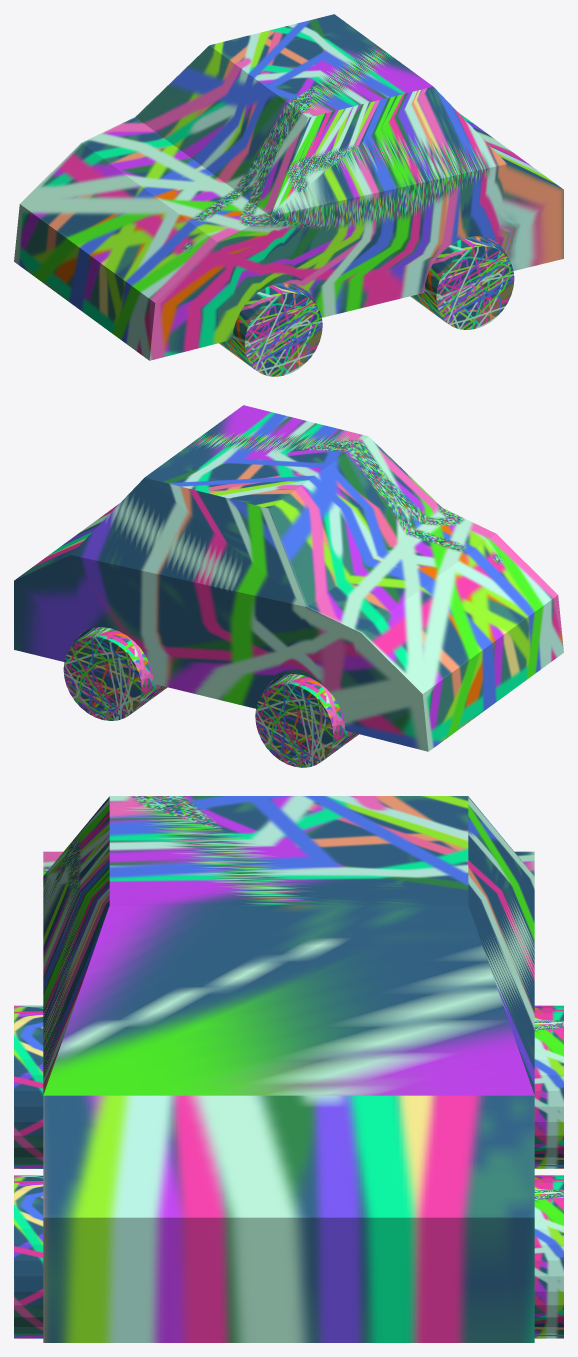
The model's file is car.gltf.
3 renders of one model, top to bottom at view 1: azimuth 30°, elevation 25°; view 2: azimuth 150°, elevation 25°; view 3: azimuth 270°, elevation 25°, orthographic. The views are drawn at different scales.
Parts seen in each view (by area): view 1: Cube; view 2: Cube; view 3: Cube.
Part boxes in pixels (x1,y1,x2,y2): Cube: [14, 14, 563, 376]; Cube: [14, 405, 563, 767]; Cube: [14, 796, 563, 1342].
Bounding box in the file's own units: 0.198 × 0.1036 × 0.1254.
Materials: 1 (1 with a texture image).
